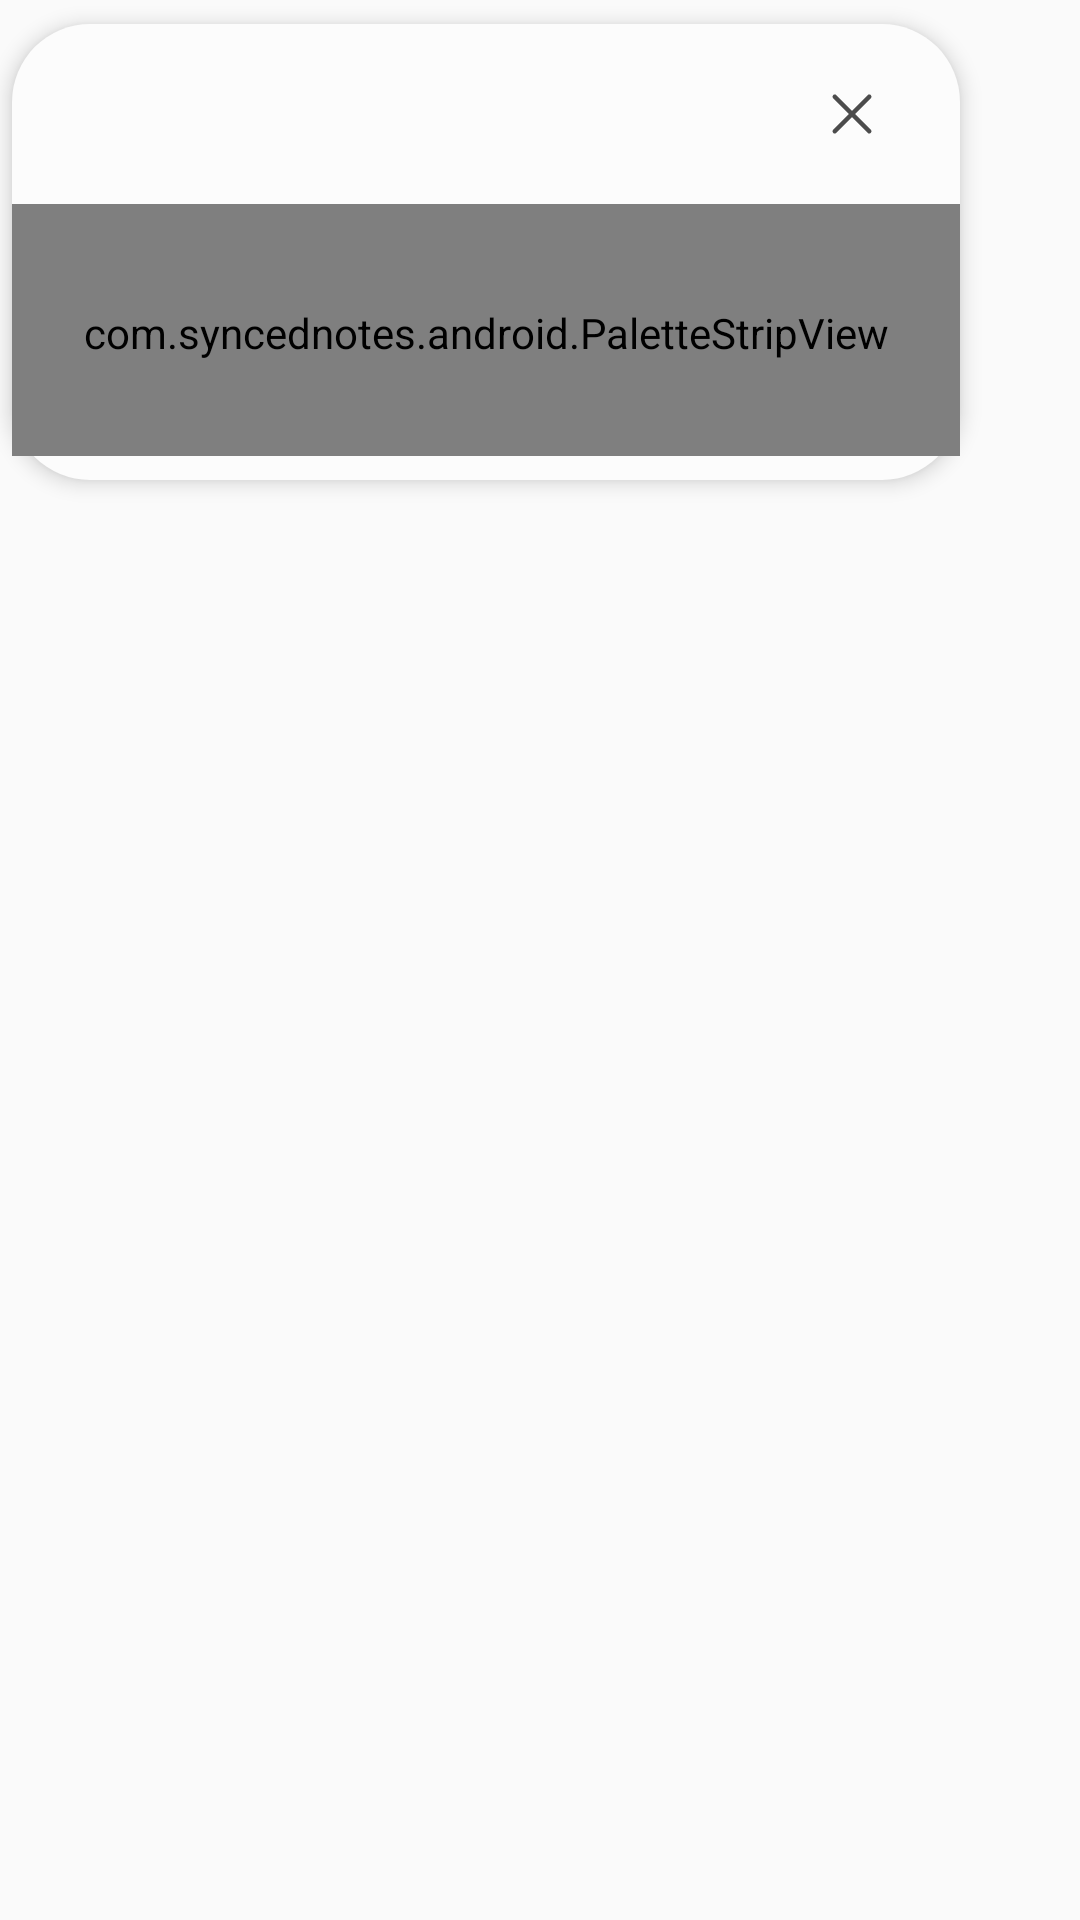

Point at icon controls on the screen. Image size 1080 × 1920, points as (x,y).
Close: (852,114)
